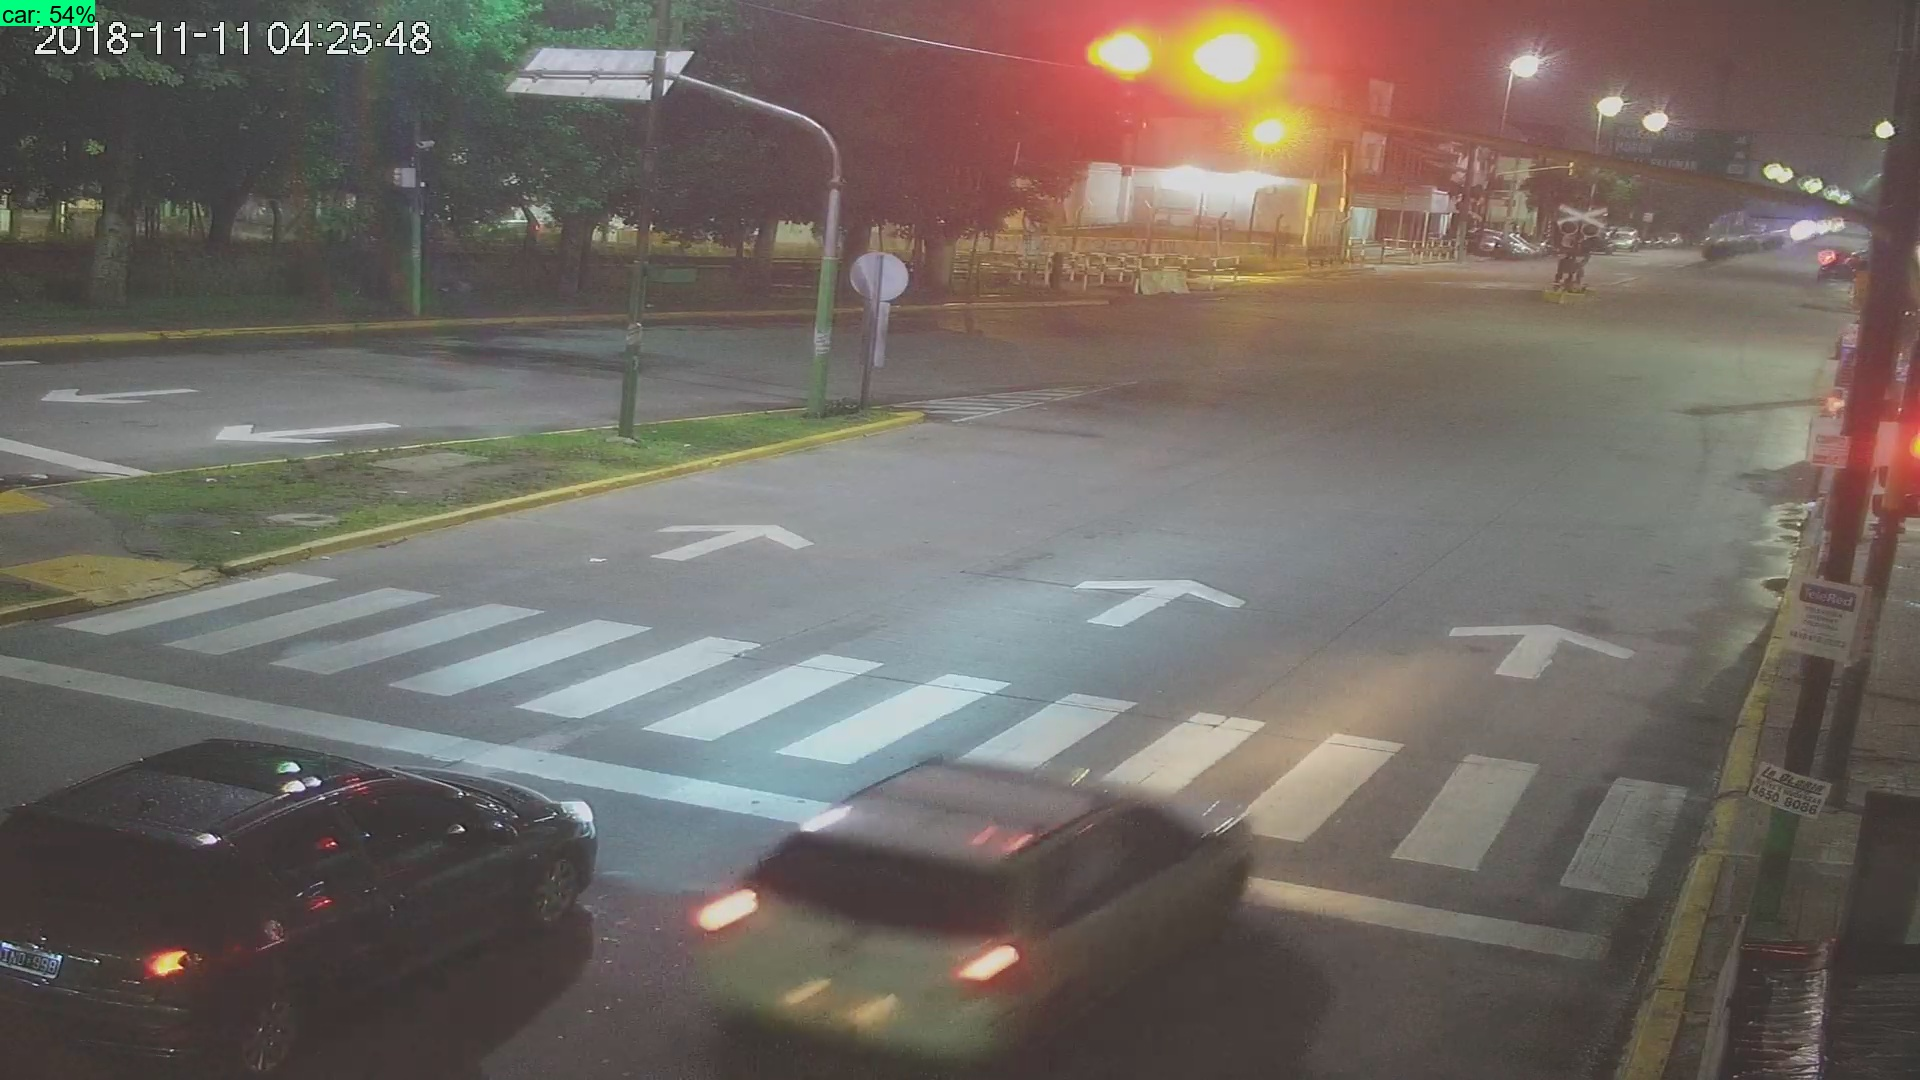car: (8, 731, 603, 1080), (695, 750, 1258, 1080)
